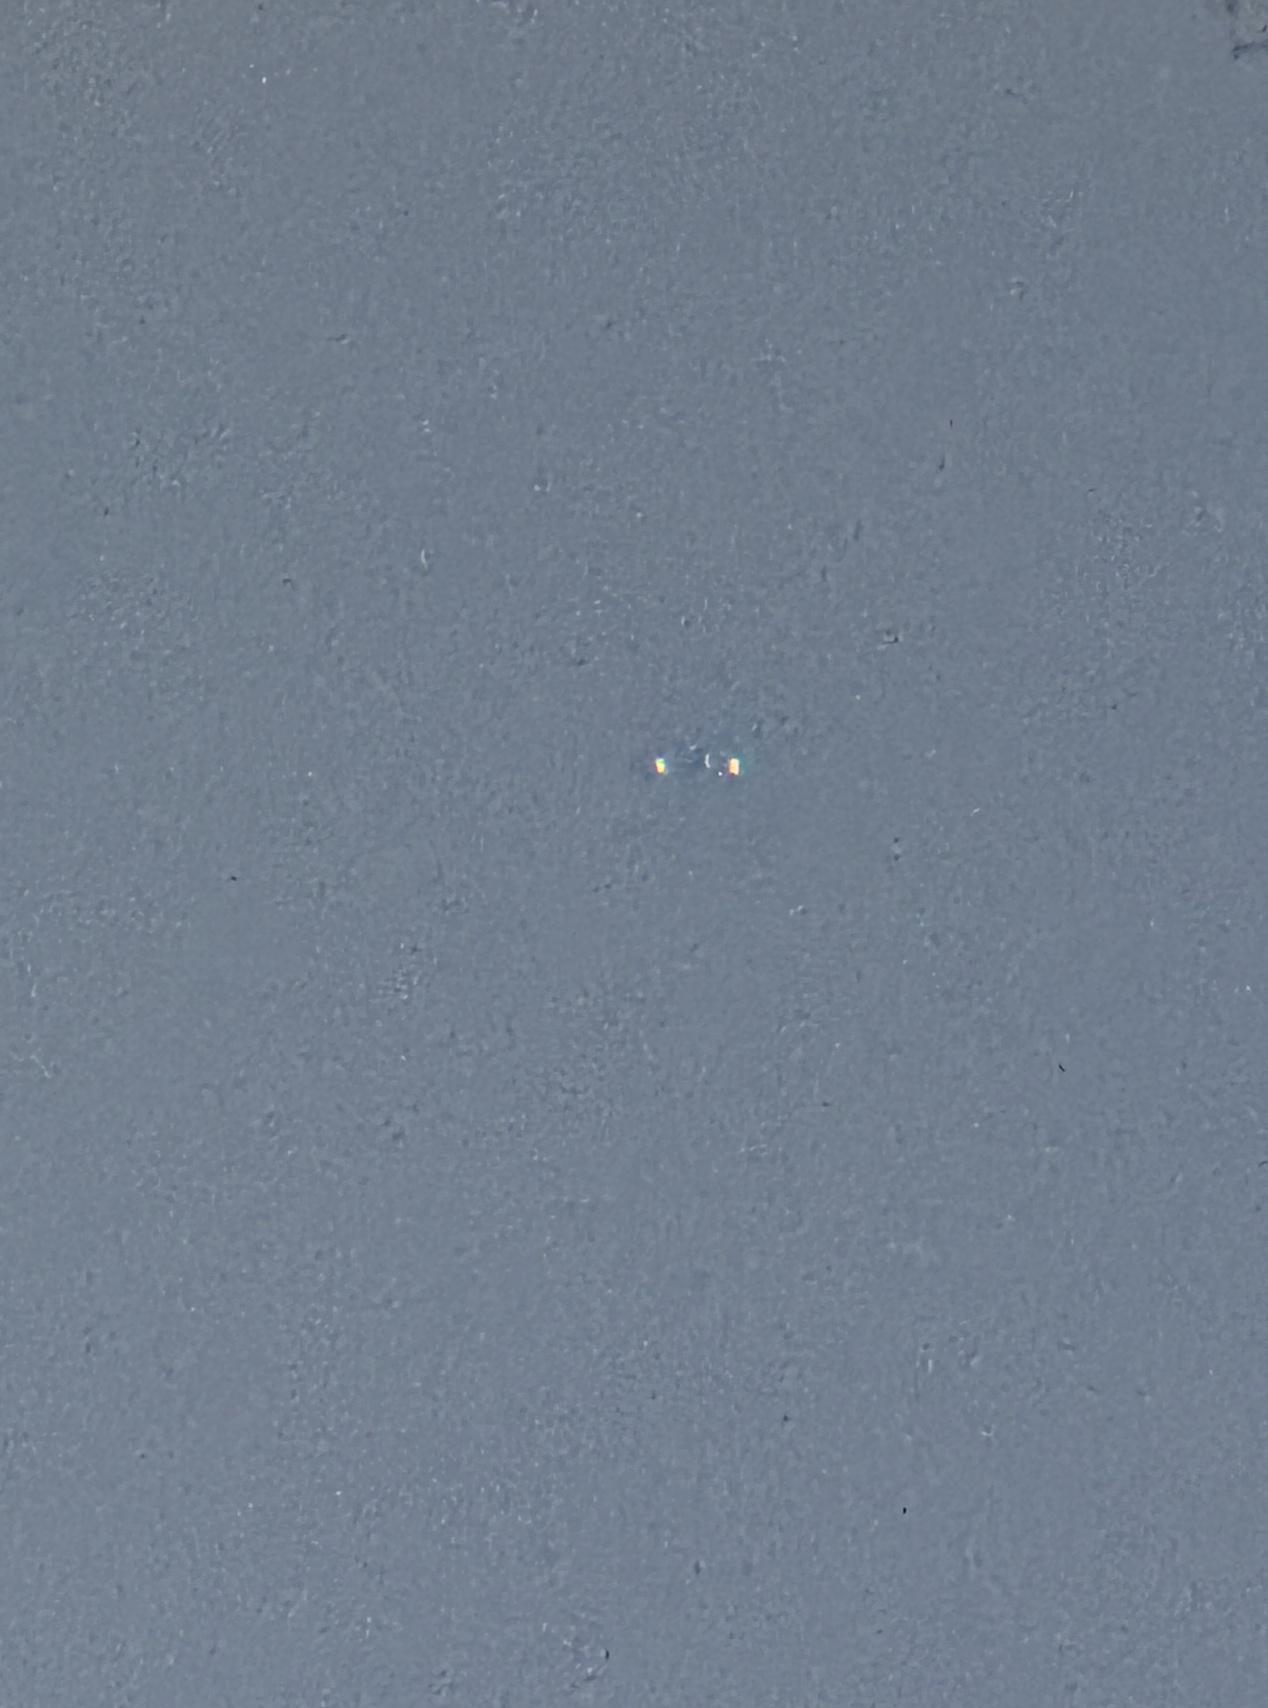Plane: (578, 707, 798, 799)
